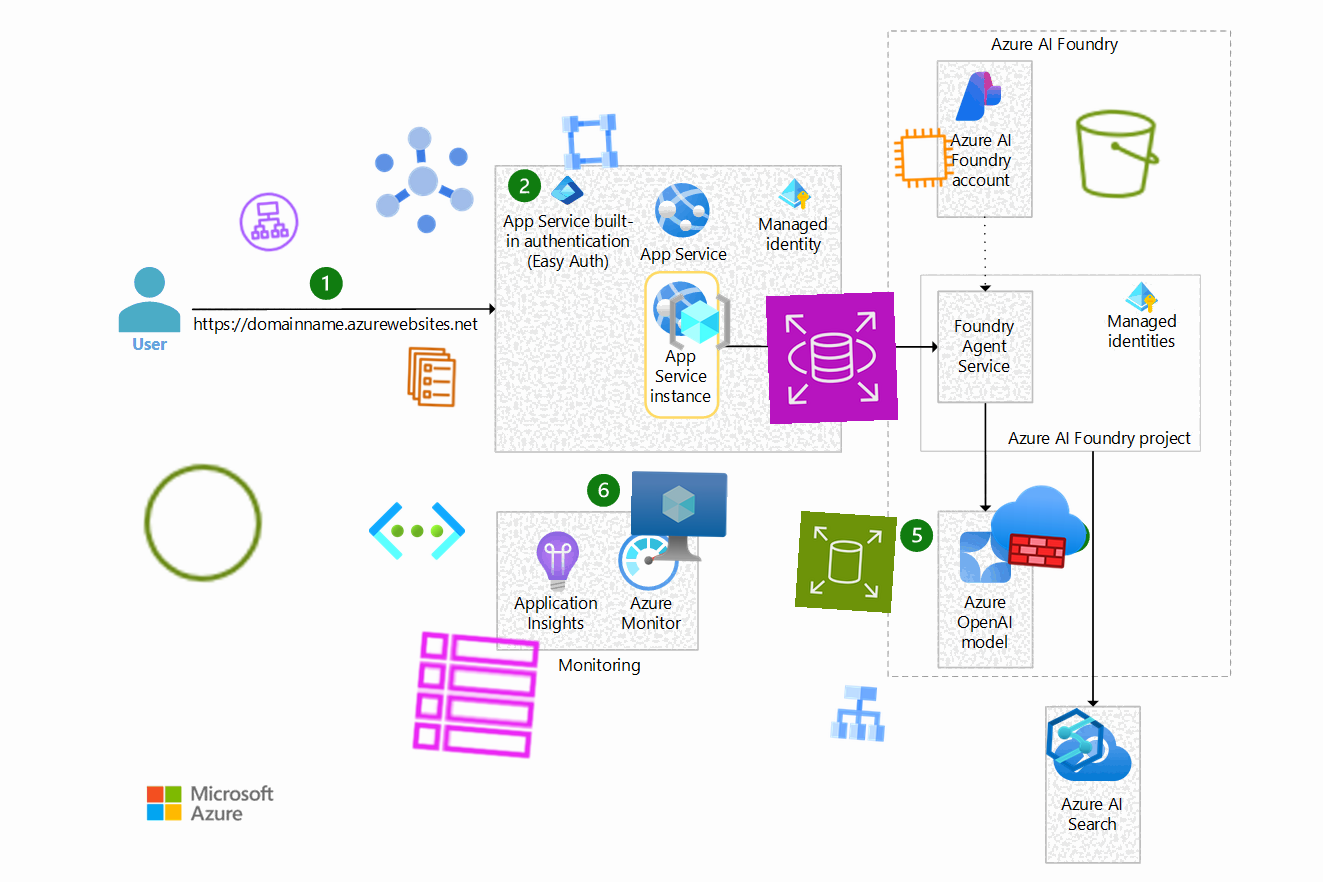aws_amazon_elastic_block_store: (794, 510, 898, 614)
aws_amazon_rds: (765, 291, 899, 425)
aws_dynamodb_table: (406, 625, 546, 765)
aws_ec2_instance: (890, 124, 958, 192)
aws_elastic_container_service_service: (398, 343, 466, 411)
aws_elastic_load_balancing_application_load_balancer: (234, 187, 304, 257)
aws_simple_storage_service_bucket: (1067, 104, 1167, 204)
aws_simple_storage_service_object: (136, 456, 270, 590)
azure_firewalls: (987, 474, 1091, 578)
azure_resource_groups: (667, 289, 733, 355)
azure_synapse_analytics: (1041, 706, 1109, 774)
azure_virtual_machine: (629, 469, 729, 569)
azure_virtual_networks: (368, 482, 466, 580)
gcp_cloud_load_balancing: (824, 678, 894, 748)
gcp_pubsub: (354, 111, 492, 249)
gcp_virtual_private_cloud: (556, 108, 624, 176)
